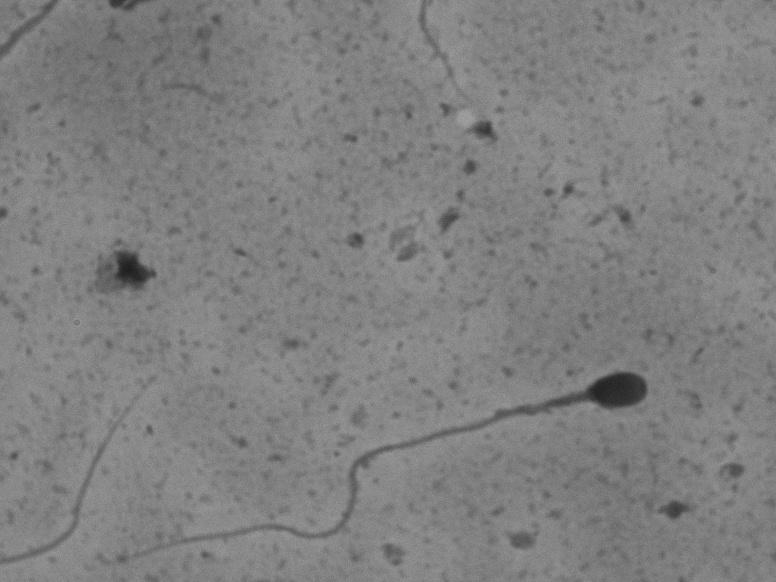Normal: (129, 356, 659, 569)
